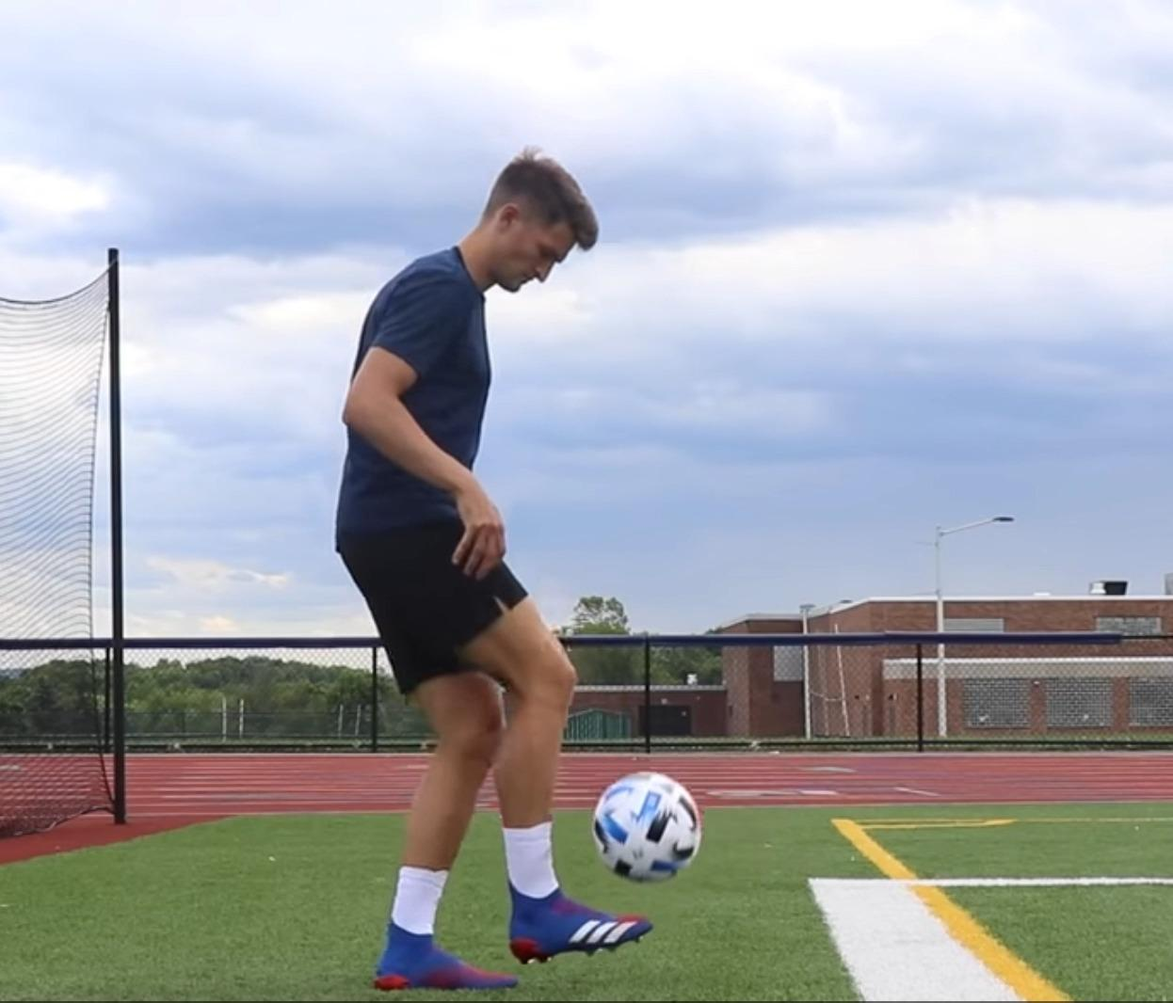ball: (592, 770, 699, 883)
foot: (372, 918, 526, 997), (505, 883, 652, 964)
person: (330, 156, 654, 995)
